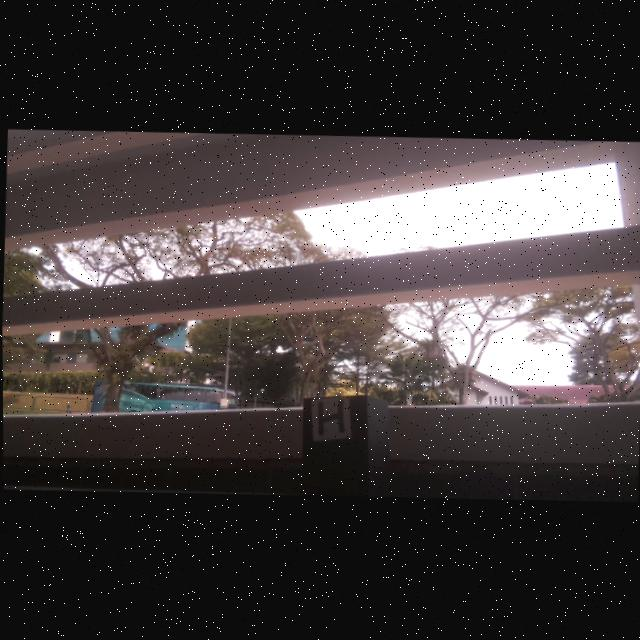H: (317, 401, 344, 435)
